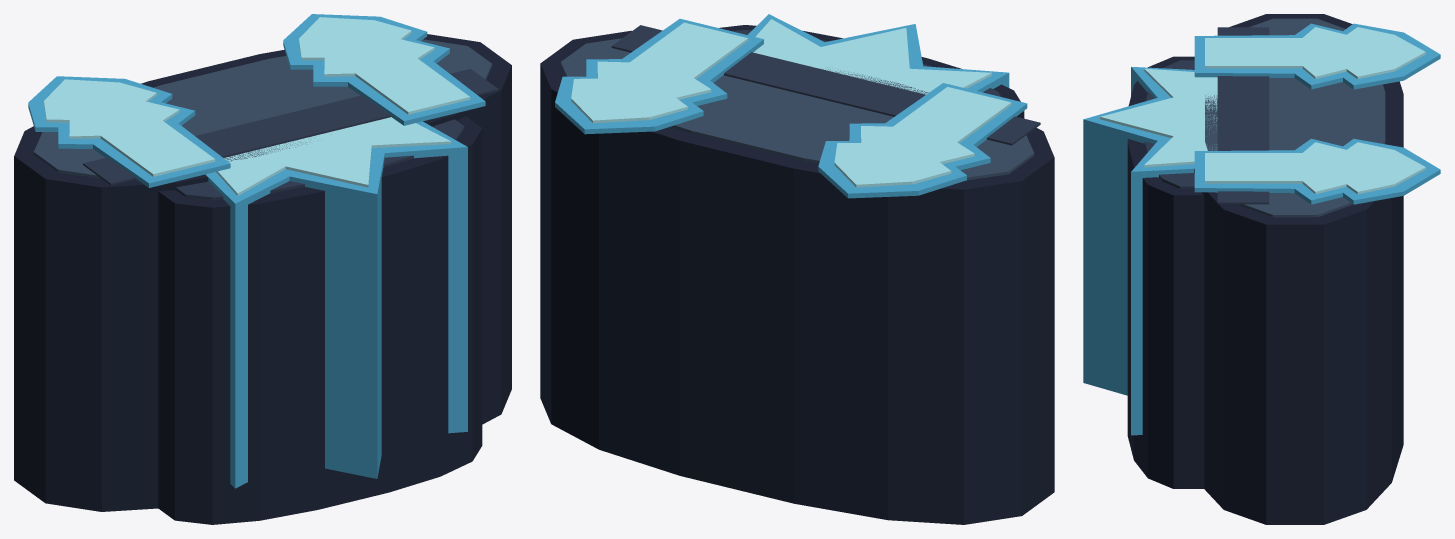
Rendered from bag_cristais_gelo.fbx.
3 renders of one model, left to right at view 1: azimuth 30°, elevation 25°; view 2: azimuth 150°, elevation 25°; view 3: azimuth 270°, elevation 25°, orthographic. The views are drawn at different scales.
Visible parts, largest first — view 1: bag_cristais_gelo_mochila; view 2: bag_cristais_gelo_mochila; view 3: bag_cristais_gelo_mochila.
Boxes of the visible parts, x1,y1,x2,y2 form: bag_cristais_gelo_mochila: [14, 14, 511, 524]; bag_cristais_gelo_mochila: [540, 14, 1054, 524]; bag_cristais_gelo_mochila: [1083, 14, 1440, 524].
Bounding box in the file's own units: 2.71 × 1.86 × 1.94.
Materials: 1 (1 with a texture image).
